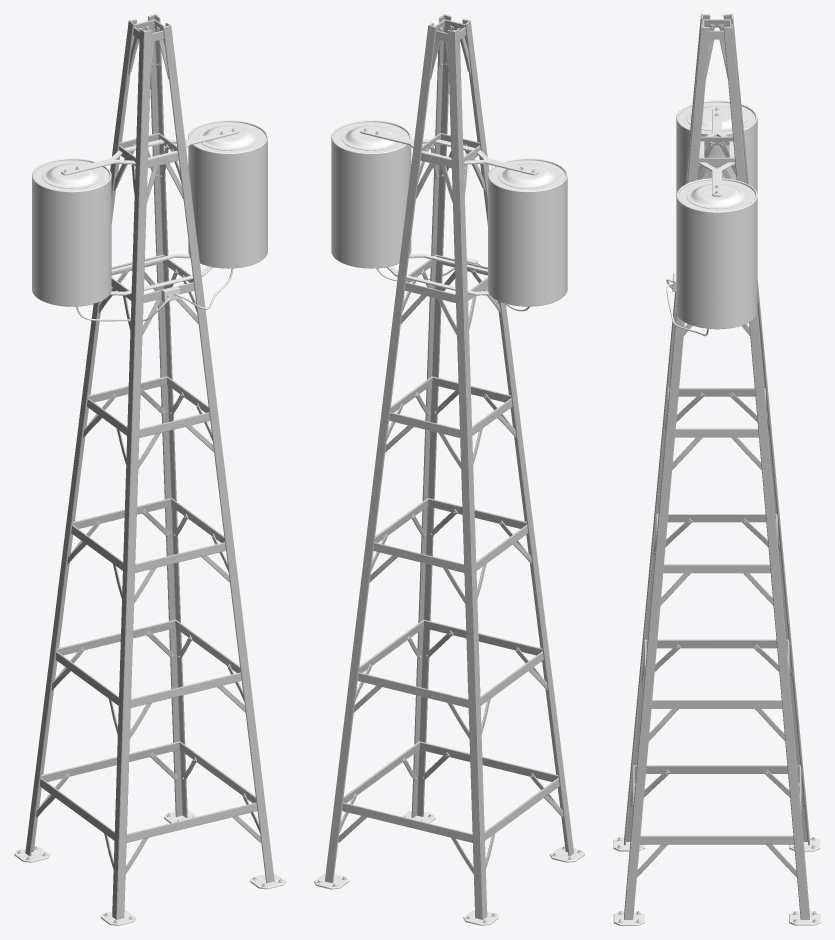
Rendered from KB3D_FTW_PropPwerMast_A_grp.glb.
3 renders of one model, left to right at view 1: azimuth 30°, elevation 25°; view 2: azimuth 150°, elevation 25°; view 3: azimuth 270°, elevation 25°, orthographic.
Parts seen in each view (by area): view 1: KB3D_FTW_PropPwerMast_A_Main; view 2: KB3D_FTW_PropPwerMast_A_Main; view 3: KB3D_FTW_PropPwerMast_A_Main.
Part boxes in pixels (box(x1,y1,x2,y2)): KB3D_FTW_PropPwerMast_A_Main: box(14, 14, 285, 925); KB3D_FTW_PropPwerMast_A_Main: box(314, 14, 584, 925); KB3D_FTW_PropPwerMast_A_Main: box(613, 14, 820, 925).
Size of the model in its own units: 6.4 by 22.92 by 5.
Materials: 7 (1 with a texture image).
